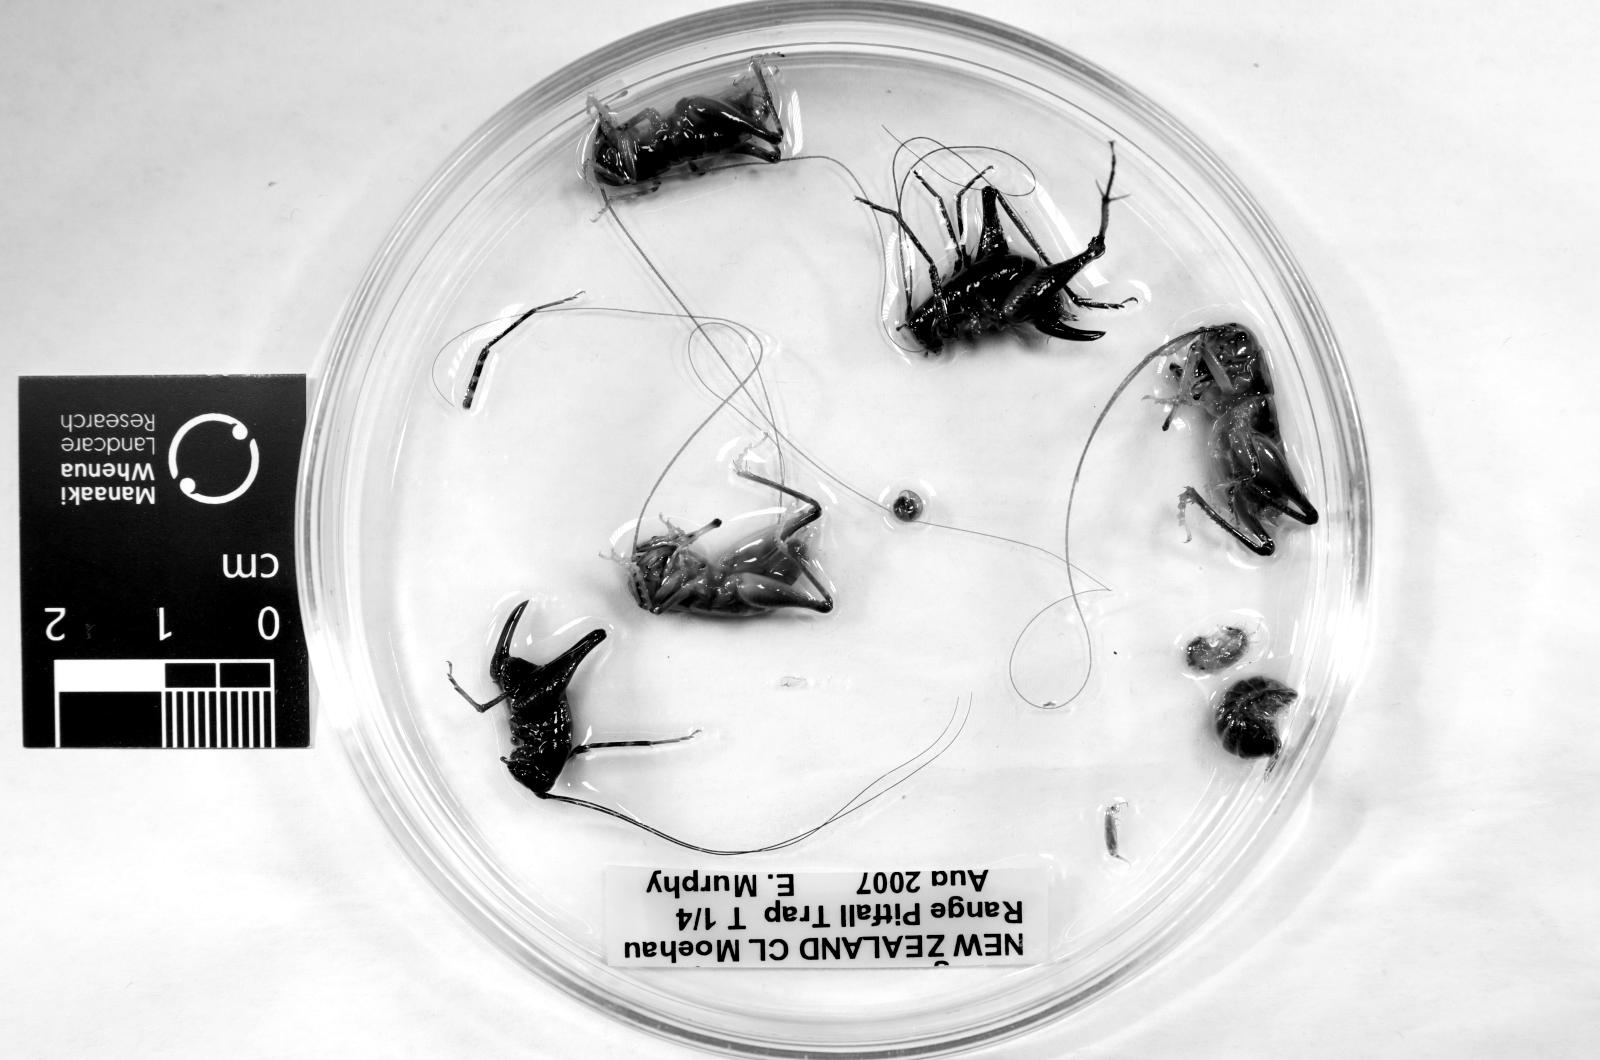amphipoda: (1185, 627, 1250, 674)
collembola: (1103, 804, 1125, 864)
gastropoda: (890, 491, 925, 522)
isopoda: (1216, 677, 1297, 757)
orthoptera: (862, 149, 1122, 354), (453, 602, 662, 795), (1159, 323, 1319, 556), (613, 472, 831, 615), (584, 56, 782, 187)
